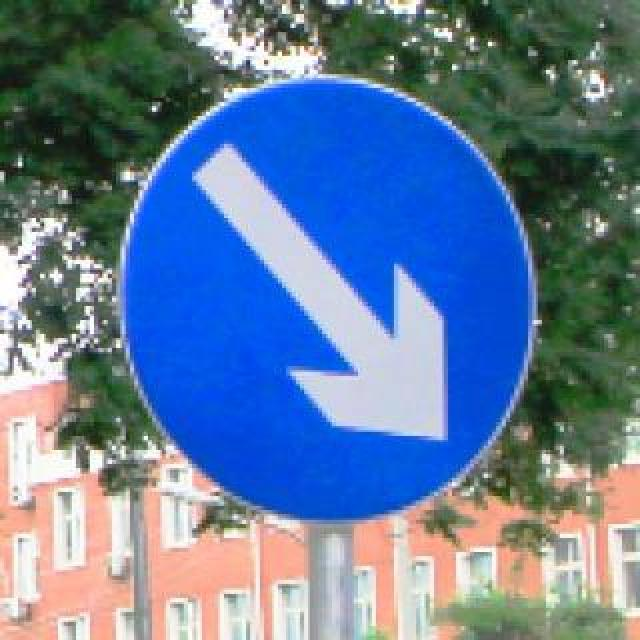keep right: (112, 70, 532, 524)
